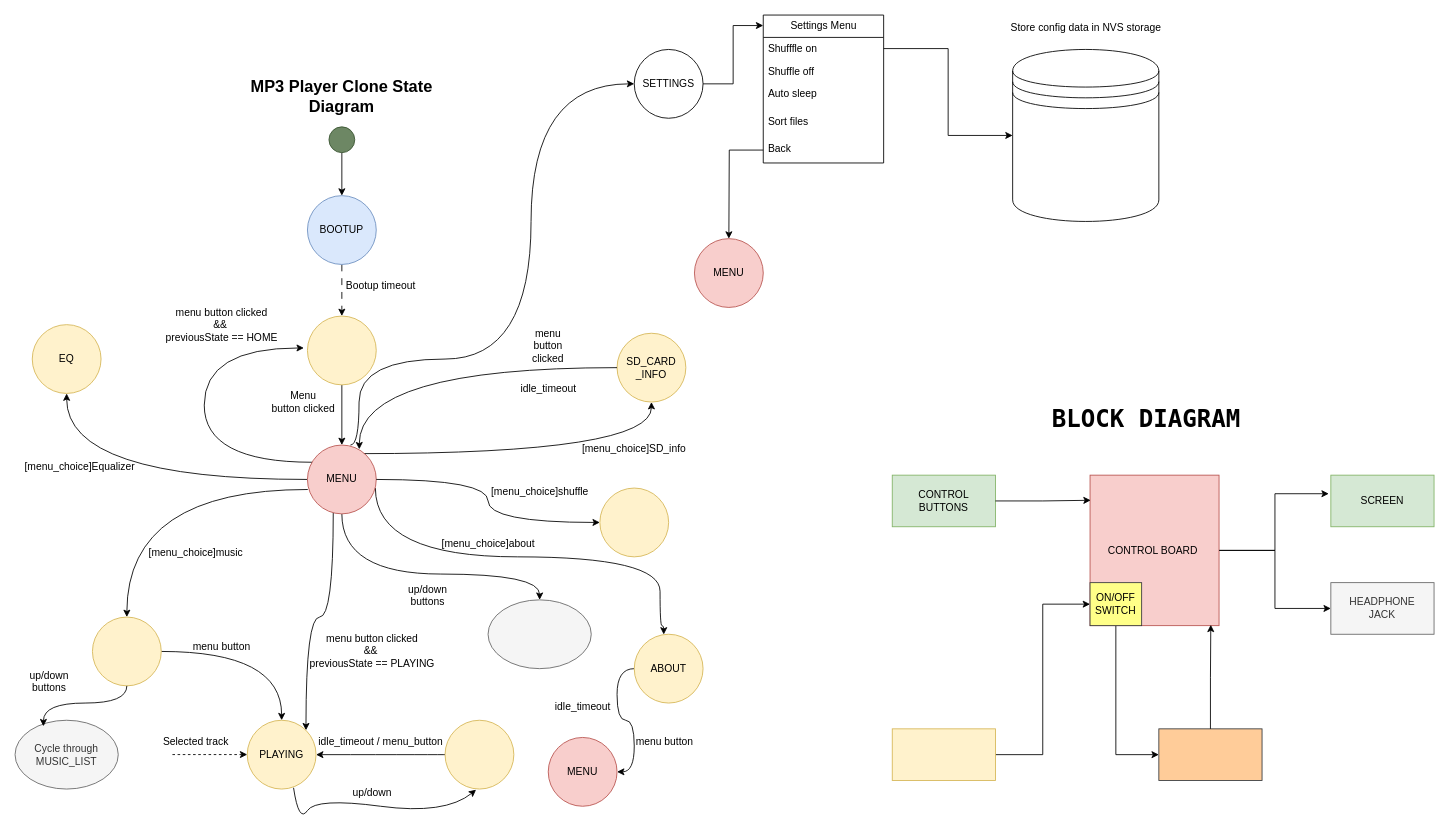
This 1449x829 diagram has some shape labels left out. Each missing label, with the centre of its shape:
"BATTERY" belongs at point (943, 754).
"Cycle through MENU_ITEMS" belongs at point (539, 634).
"HOME" belongs at point (341, 350).
"SELECTING MUSIC" belongs at point (126, 651).
"SHUFFLING ( random tracks)" belongs at point (634, 522).
"struct config { shuffle_on, shuffle_off, auto_sleep }" belongs at point (1085, 135).
"TP4056 CHARGING MODULE" belongs at point (1210, 754).
"VOLUME_ CHANGE" belongs at point (479, 754).
